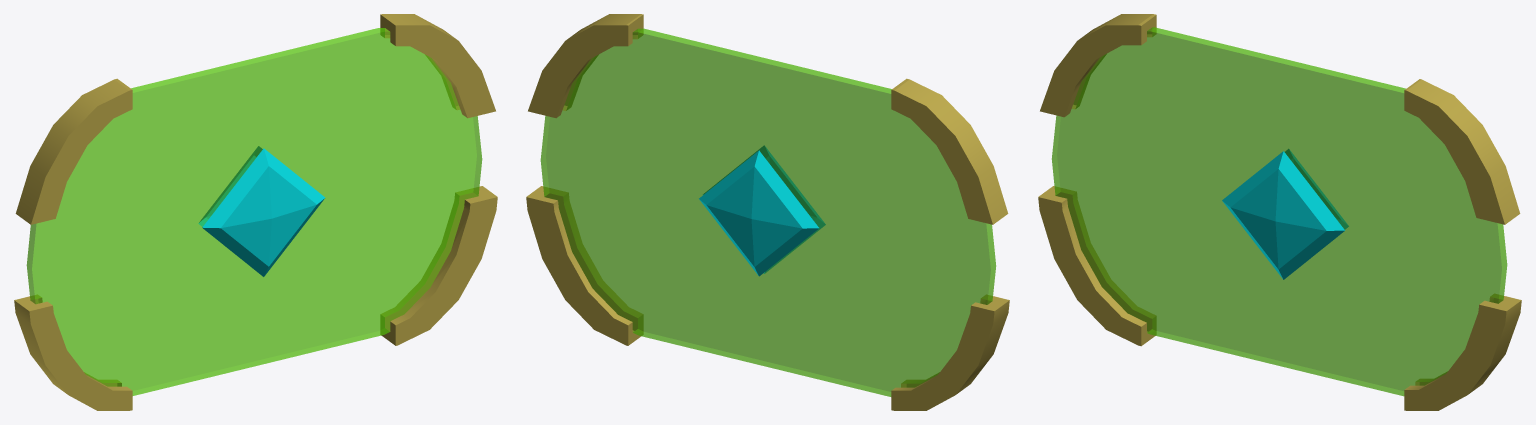
File: sheild 3.fbx
3 views of the same model, side by side, from view 1: azimuth 30°, elevation 25°; view 2: azimuth 150°, elevation 25°; view 3: azimuth 330°, elevation 25° (orthographic).
Visible parts, largest first — view 1: pCylinder19; view 2: pCylinder19; view 3: pCylinder19.
Boxes of the visible parts, box(x1,y1,x2,y2) form: pCylinder19: box(14, 14, 497, 410); pCylinder19: box(526, 14, 1009, 410); pCylinder19: box(1038, 14, 1521, 410).
Size of the model in its own units: 33.87 by 22.13 by 2.63.
